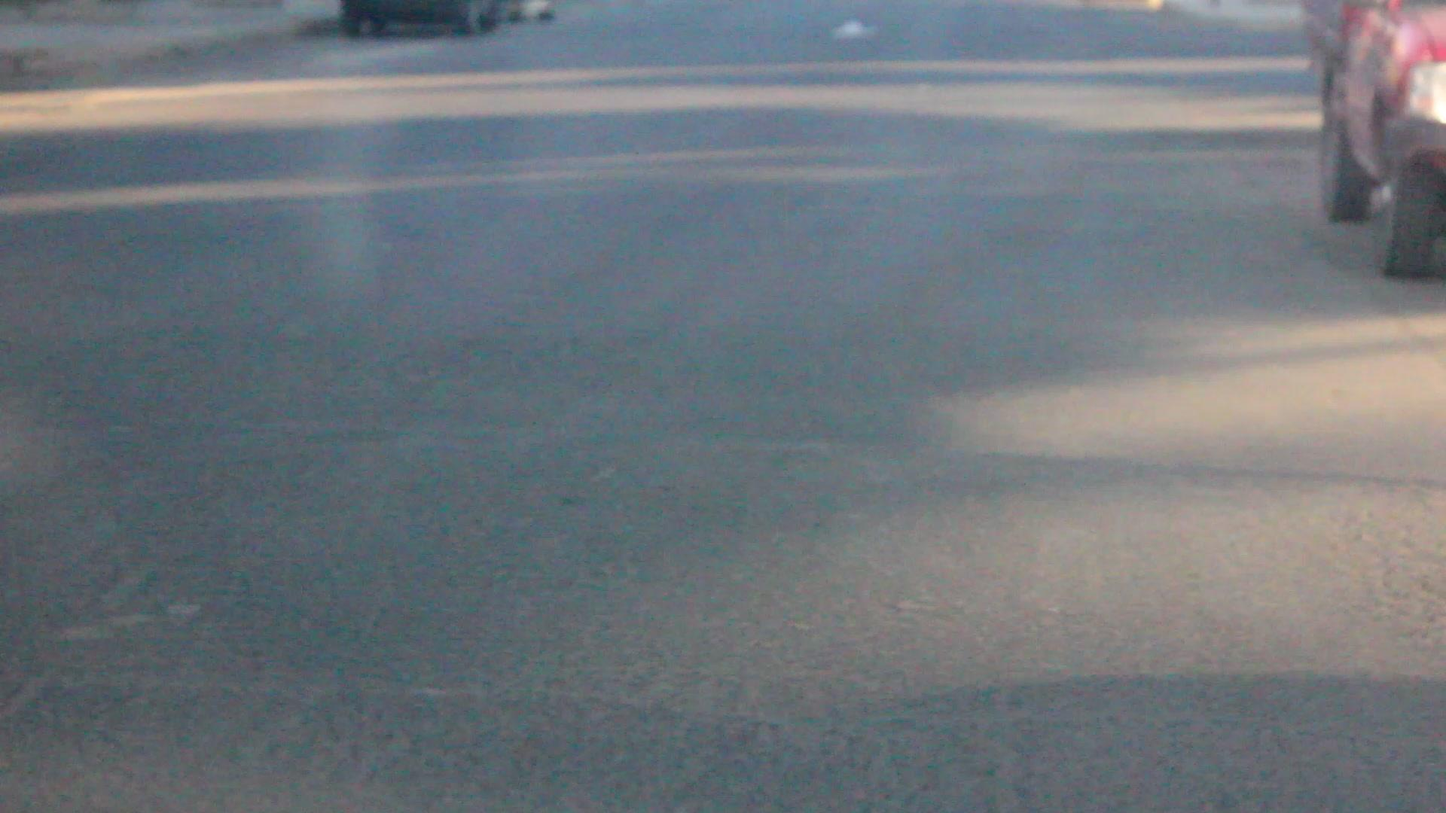Bump: (23, 470, 1446, 813)
